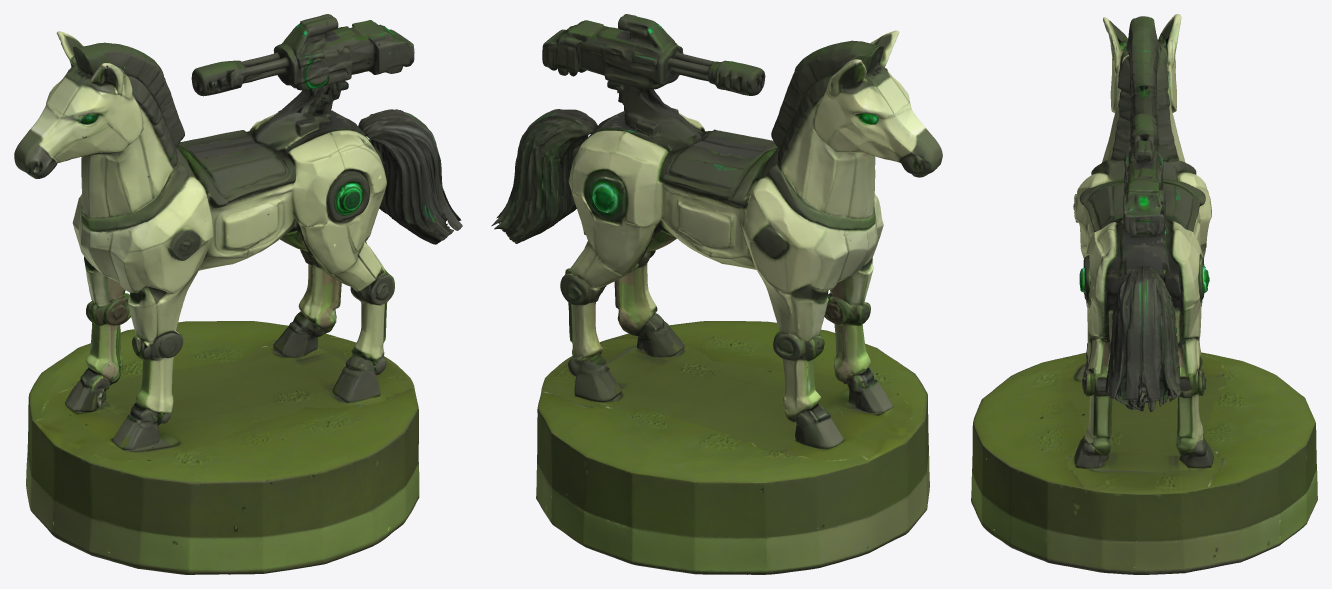
File: Robotic_Steed_Sentine.glb
3 renders of one model, left to right at view 1: azimuth 30°, elevation 25°; view 2: azimuth 150°, elevation 25°; view 3: azimuth 270°, elevation 25°, orthographic. The views are drawn at different scales.
Bounding box in the file's own units: 1.86 × 2 × 1.47.
Materials: 1 (1 with a texture image).
